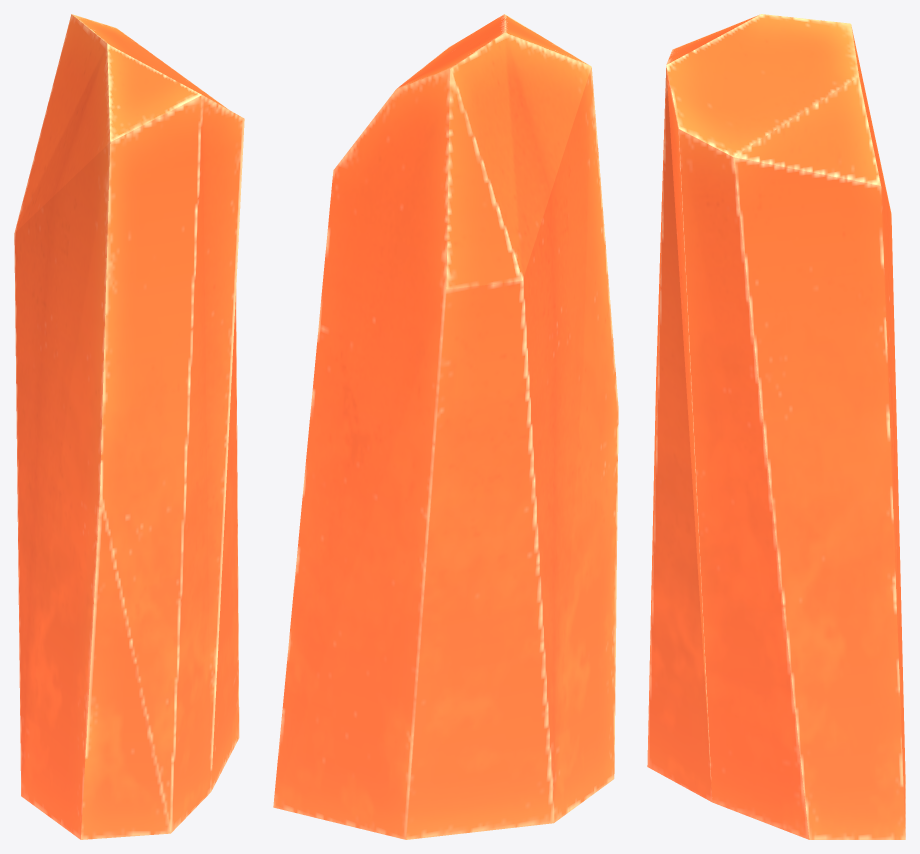
3 views of the same model, side by side, from view 1: azimuth 30°, elevation 25°; view 2: azimuth 150°, elevation 25°; view 3: azimuth 270°, elevation 25° (orthographic).
Parts seen in each view (by area): view 1: 1; view 2: 1; view 3: 1.
Boxes of the visible parts, x1,y1,x2,y2 form: 1: (14,14,244,839); 1: (273,14,618,839); 1: (647,14,905,839).
Bounding box in the file's own units: 123 × 394 × 123.
